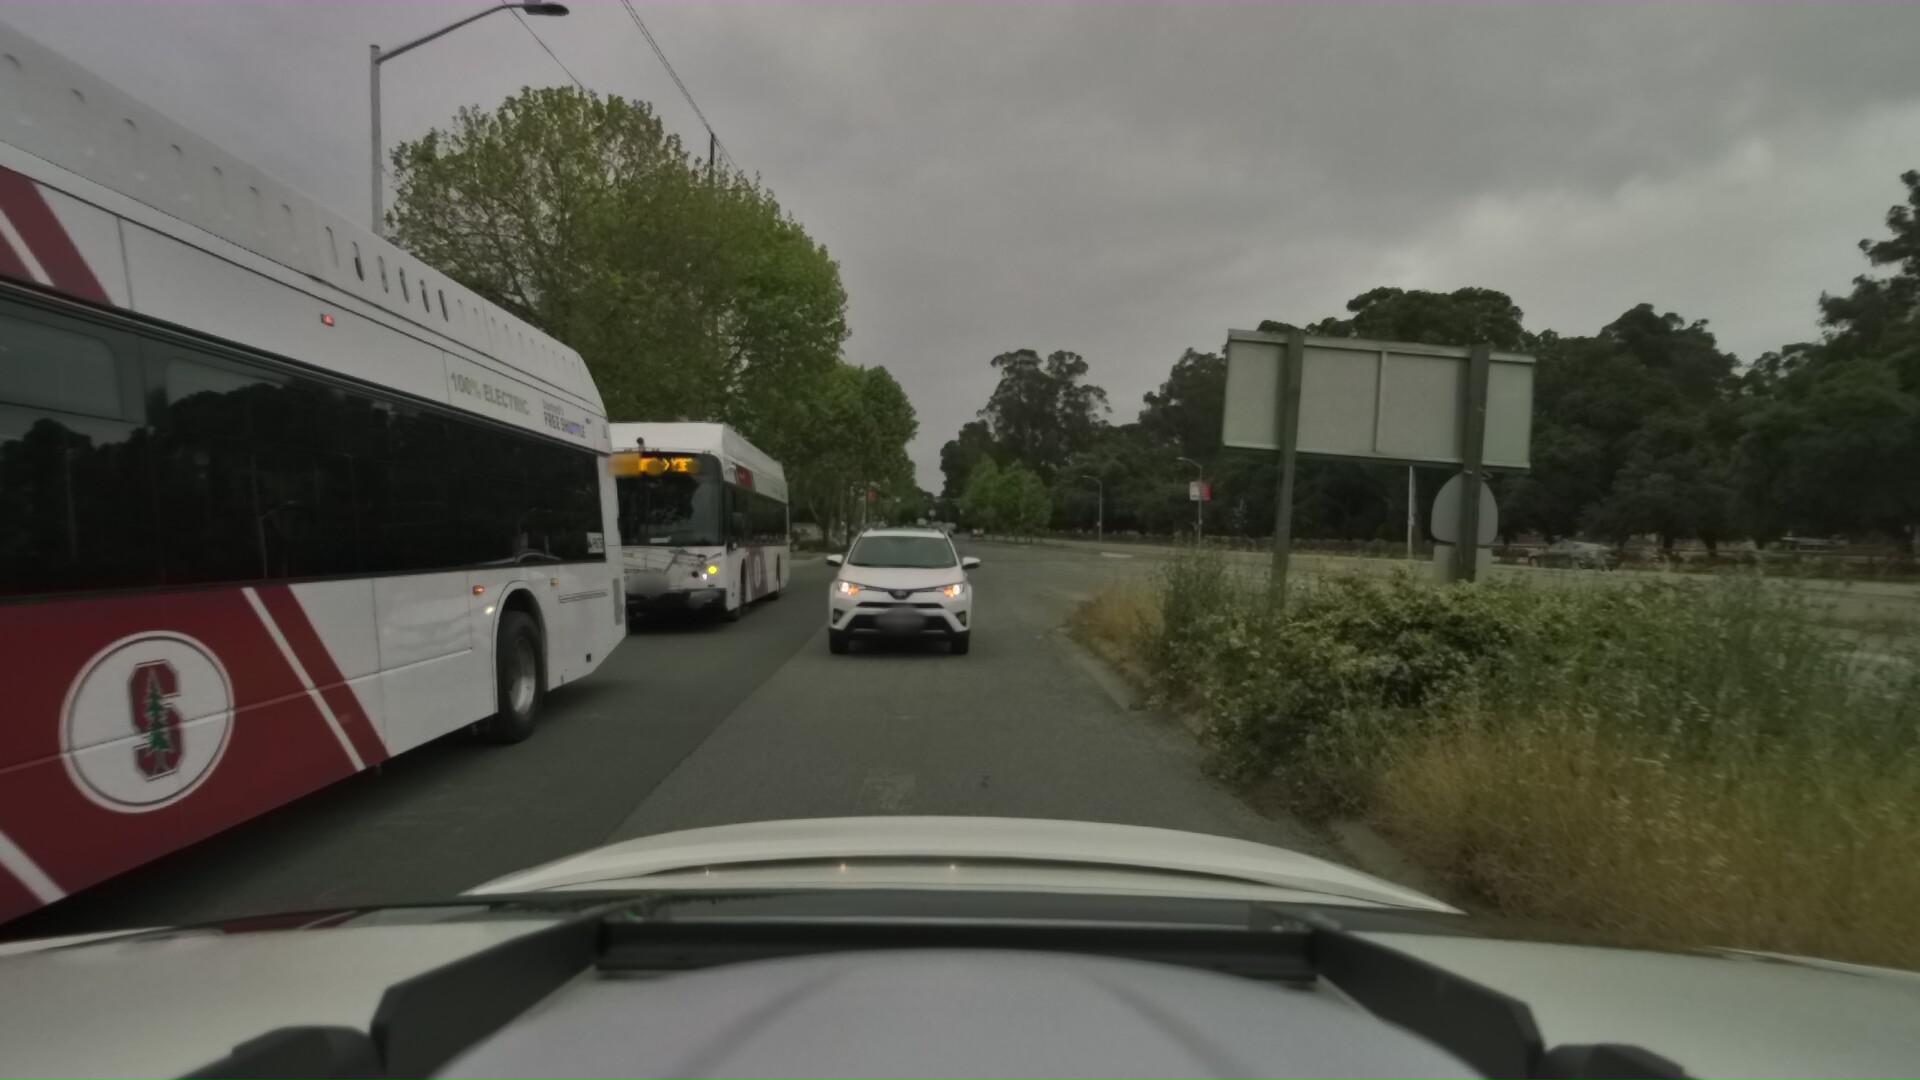bus: (538, 406, 799, 654)
car: (823, 512, 1007, 666), (1519, 531, 1629, 568)
